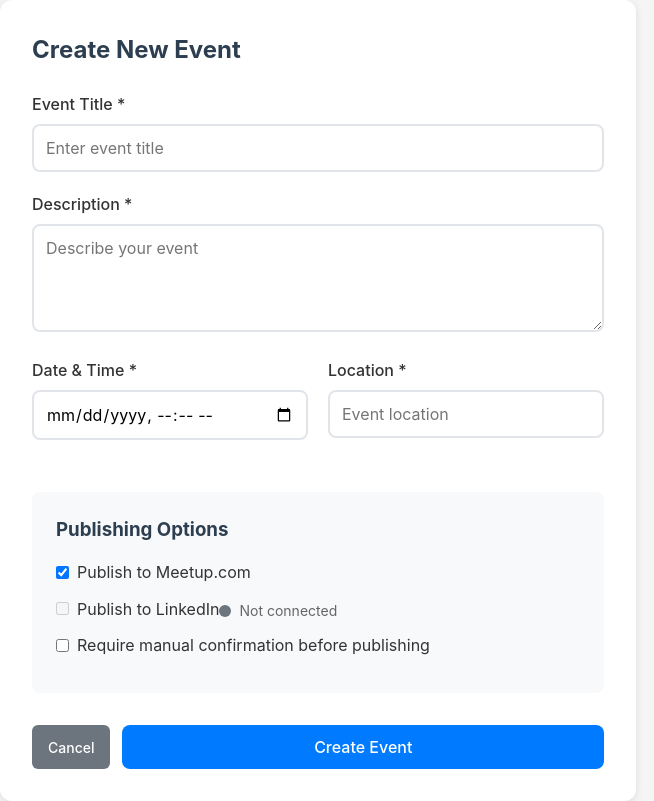
it: EventForm Component › validates required fields
This screenshot has width=654, height=801.
Click the button "Create Event" at (363, 747), box [122,725,604,769]
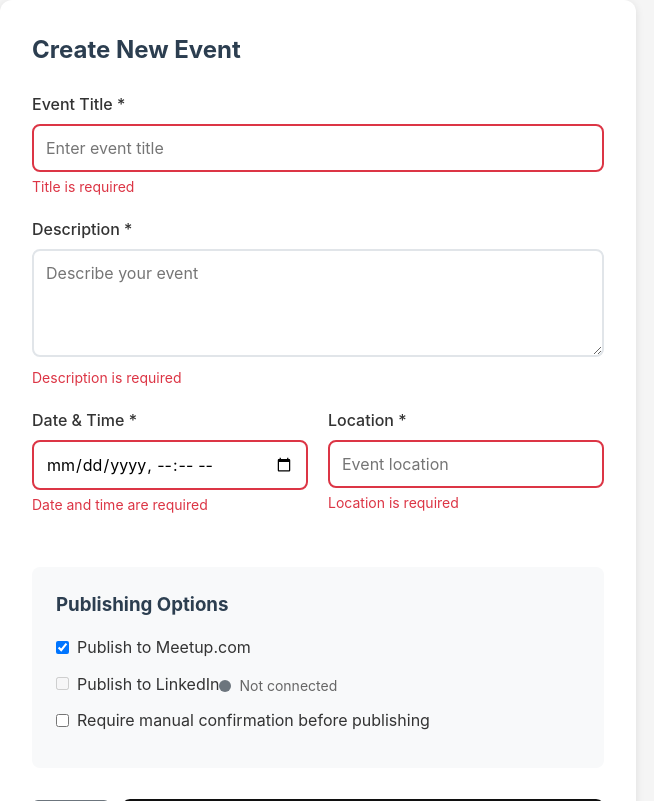
expect the text "Title is required" is shown: met, box [32,178,134,195]
expect the text "Description is required" is shown: met, box [32,369,182,386]
expect the text "Date and time are required" is shown: met, box [32,496,208,513]
